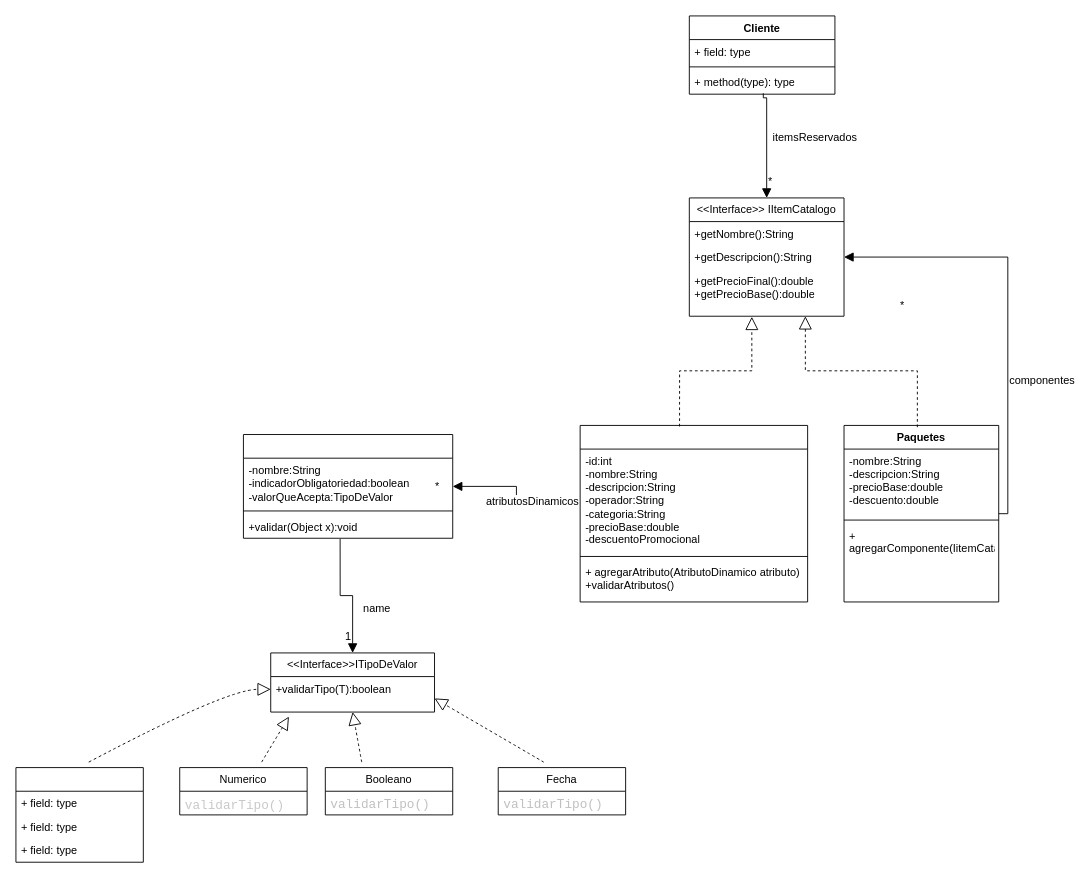
Some shapes in this 1091 by 881 pixel diagram are drawn without their labels. Each missing label, with the box of its shape:
AtributoDinamico: (243, 434, 453, 538)
Servicio: (579, 425, 808, 602)
Texto: (15, 767, 143, 862)
